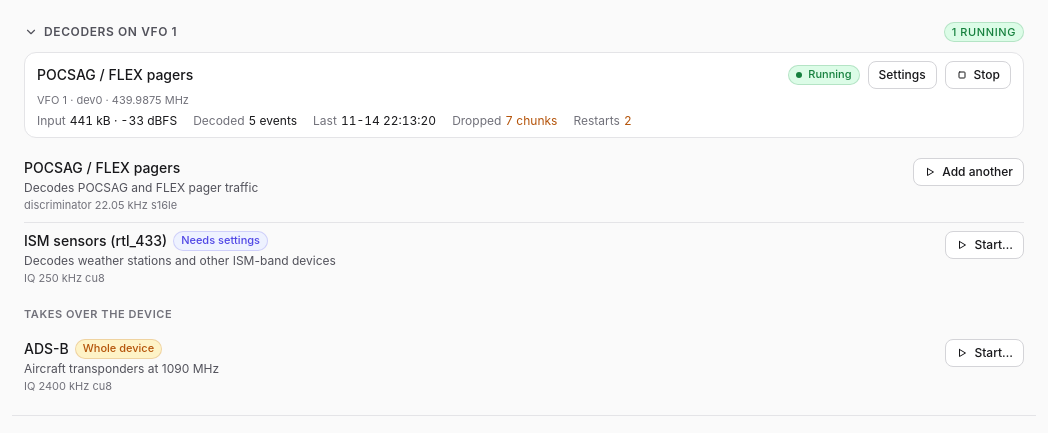
Test: running instances › shows state, restarts and counters and stops an instance
This screenshot has width=1048, height=433.
Expected: the list item with test id "instance-i-1" shows "Running", [808, 67, 852, 81]
Expected: the list item with test id "instance-i-1" shows "VFO 1 · dev0", [37, 93, 189, 107]
Click the button with aria-label "Stop POCSAG / FLEX pagers" at x=978, y=75, box [945, 61, 1011, 89]
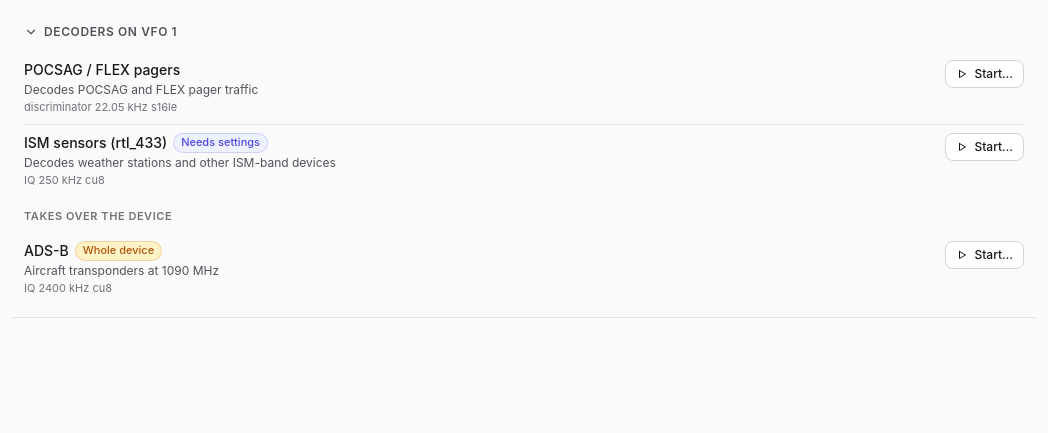
Now the list item with test id "instance-i-1" is gone
